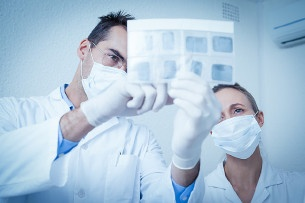Mask: (209, 102, 259, 152)
